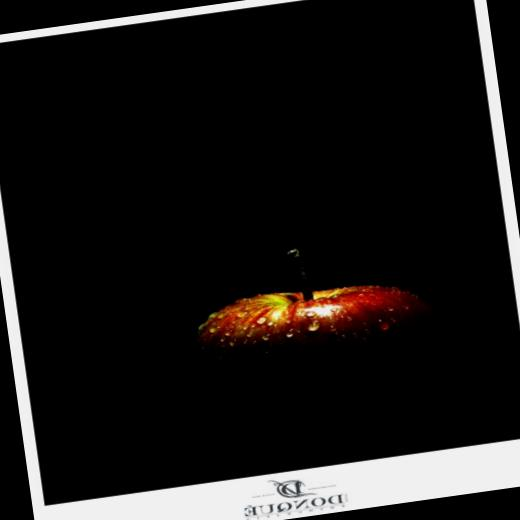Apple: (186, 251, 452, 442)
